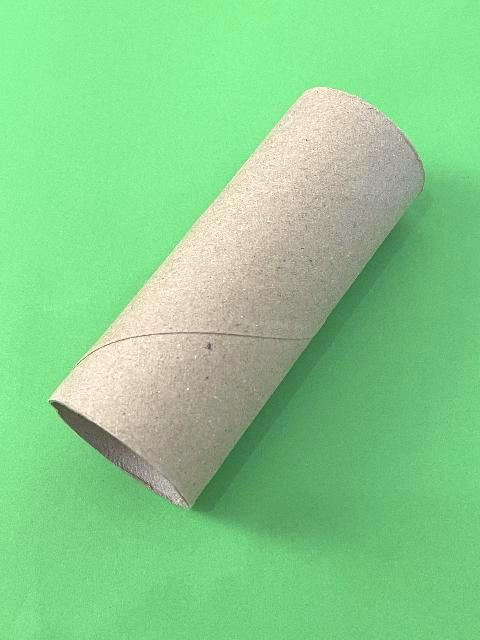tissueroll: (46, 83, 428, 510)
